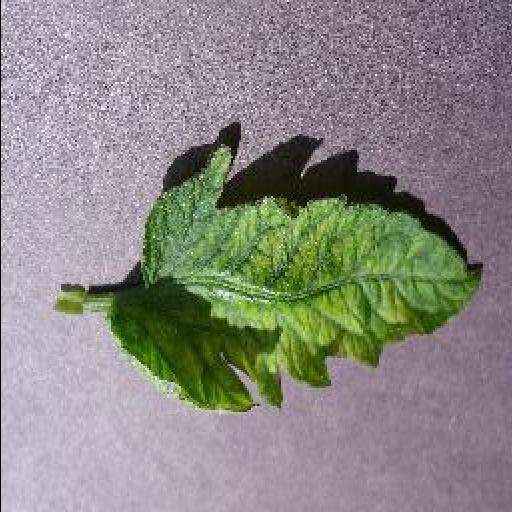disease_tomato: (106, 142, 480, 414)
